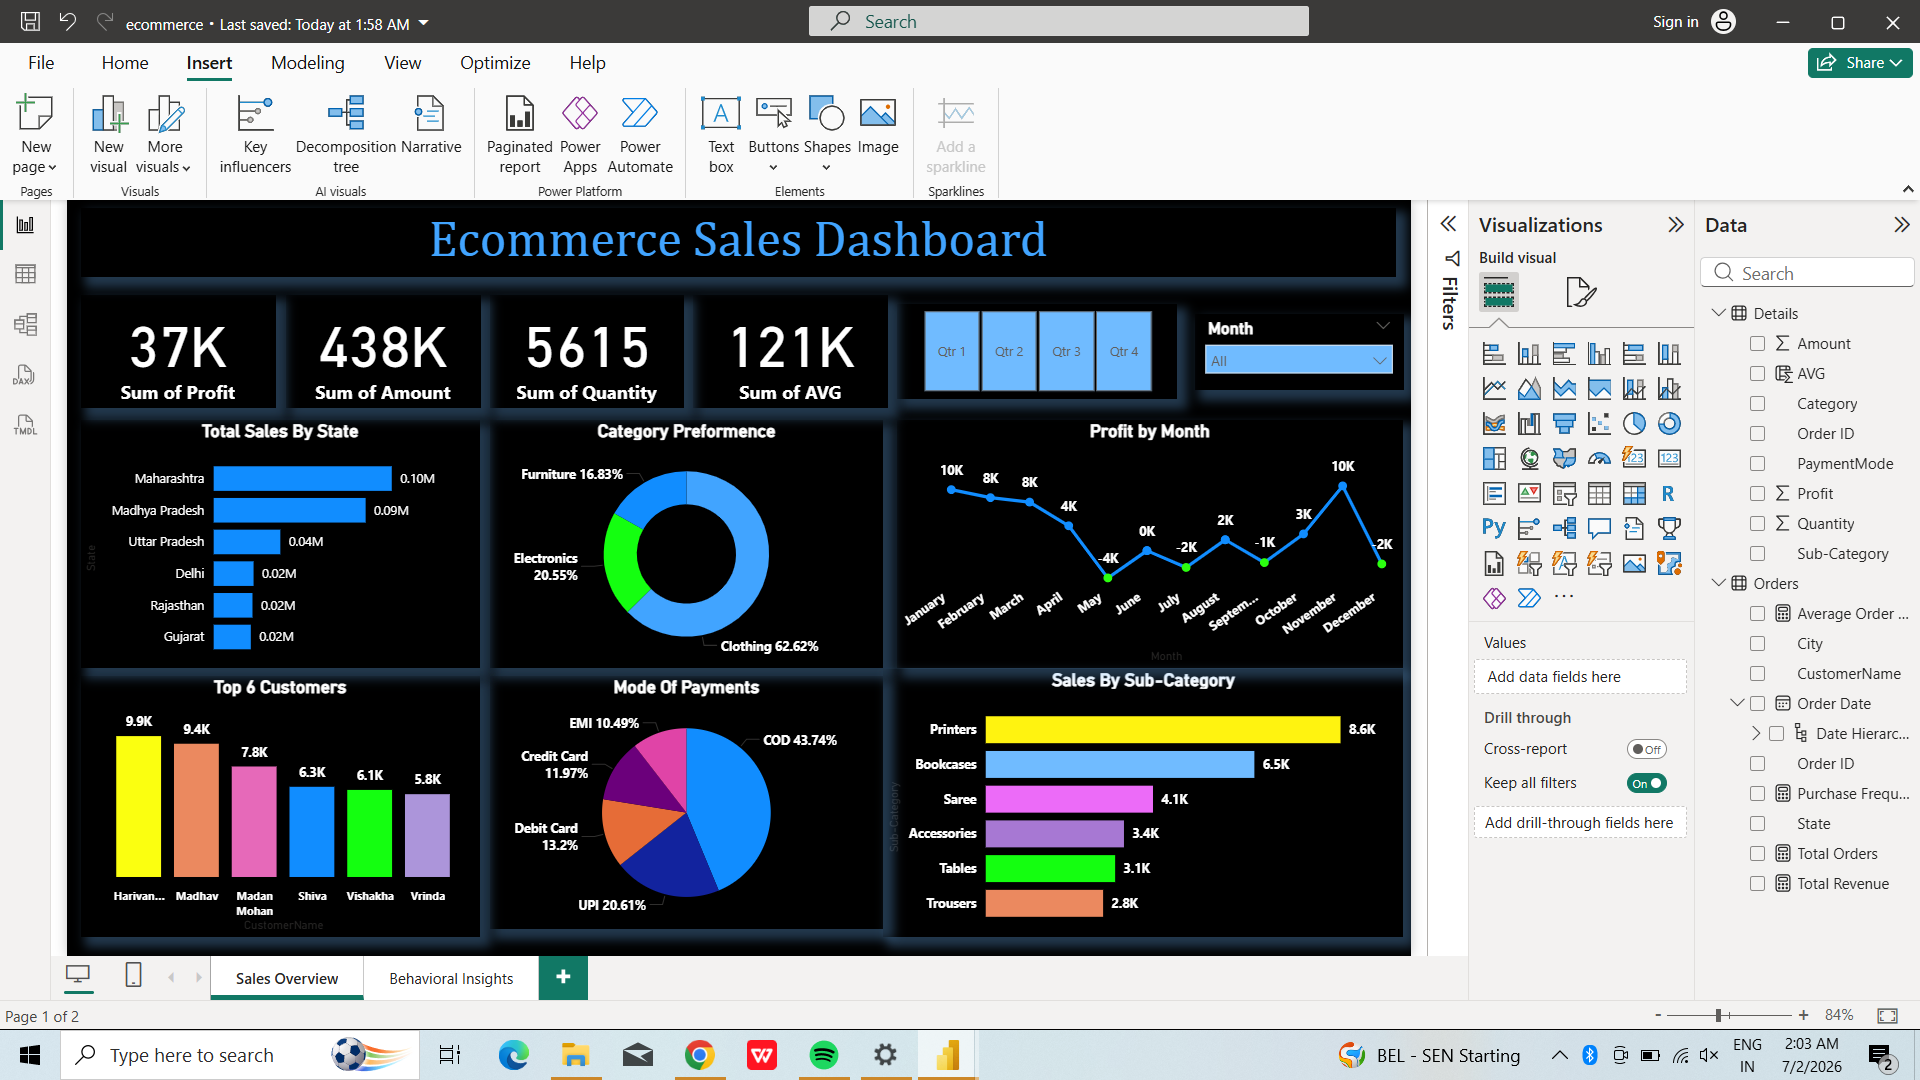

This screenshot's page, from the dashboard's own definition file:
{"tool":"powerbi","page":{"name":"Page 1","canvas":[1280,720],"ordinal":0},"visuals":[{"type":"textbox","box":[13.6,7.3,1252.7,66.4],"z":0},{"type":"card","fields":{"Values":["Sum(Details.Profit)"]},"box":[13.6,90,185.5,108.2],"z":1000},{"type":"card","fields":{"Values":["Sum(Details.Amount)"]},"box":[208.2,90,185.5,108.2],"z":2000},{"type":"card","fields":{"Values":["Sum(Details.Quantity)"]},"box":[401.8,90,185.5,108.2],"z":3000},{"type":"card","fields":{"Values":["Sum(Details.AVG)"]},"box":[596.4,90,185.5,108.2],"z":4000},{"type":"clusteredBarChart","title":"Total Sales By State","fields":{"Y":["Sum(Details.Amount)"],"Category":["Orders.State"]},"box":[13.6,210,380,236.4],"z":5000},{"type":"donutChart","title":"Category Preformence","fields":{"Y":["Sum(Details.Quantity)"],"Category":["Details.Category"]},"box":[402.7,210,375.5,236.4],"z":6000},{"type":"clusteredBarChart","title":"Sales By Sub-Category","fields":{"Category":["Details.Sub-Category"],"Y":["Sum(Details.Profit)"]},"box":[777.3,446.4,495.5,255.5],"z":7000},{"type":"columnChart","title":"Top 6 Customers","fields":{"Y":["Sum(Details.Amount)"],"Category":["Orders.CustomerName"]},"box":[13.6,453.6,380,248.2],"z":8000},{"type":"pieChart","title":"Mode Of Payments","fields":{"Y":["Sum(Details.Quantity)"],"Category":["Details.PaymentMode"]},"box":[401.8,453.6,375.5,240.9],"z":9000},{"type":"lineChart","title":"Profit by Month","fields":{"Category":["Orders.Order Date.Variation.Date Hierarchy.Month"],"Y":["Sum(Details.Profit)"]},"box":[790.9,210,481.8,236.4],"z":10000},{"type":"slicer","fields":{"Values":["Orders.Order Date.Variation.Date Hierarchy.Quarter"]},"box":[790.9,99.1,266.4,90],"z":11000},{"type":"slicer","fields":{"Values":["Orders.Order Date.Variation.Date Hierarchy.Month"]},"box":[1073.6,108.2,199.1,72.7],"z":12000}]}

Visuals, with their boxes on the page's 1280x720 design canvas (x1, y1, x2, y2). These are canvas units, not pixel positions in the 1920x1080 screenshot, which may show the page scaled, cropped or inside an application window:
textbox: (left=14, top=7, right=1266, bottom=74)
card - Sum(Details.Profit): (left=14, top=90, right=199, bottom=198)
card - Sum(Details.Amount): (left=208, top=90, right=394, bottom=198)
card - Sum(Details.Quantity): (left=402, top=90, right=587, bottom=198)
card - Sum(Details.AVG): (left=596, top=90, right=782, bottom=198)
"Total Sales By State" clusteredBarChart: (left=14, top=210, right=394, bottom=446)
"Category Preformence" donutChart: (left=403, top=210, right=778, bottom=446)
"Sales By Sub-Category" clusteredBarChart: (left=777, top=446, right=1273, bottom=702)
"Top 6 Customers" columnChart: (left=14, top=454, right=394, bottom=702)
"Mode Of Payments" pieChart: (left=402, top=454, right=777, bottom=694)
"Profit by Month" lineChart: (left=791, top=210, right=1273, bottom=446)
slicer - Orders.Order Date.Variation.Date Hierarchy.Quarter: (left=791, top=99, right=1057, bottom=189)
slicer - Orders.Order Date.Variation.Date Hierarchy.Month: (left=1074, top=108, right=1273, bottom=181)
